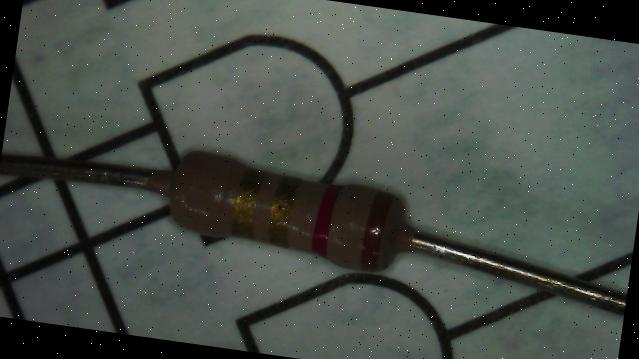brown: (357, 190, 392, 273)
gold: (228, 167, 263, 238), (264, 175, 298, 246)
red: (310, 185, 340, 258)
resistor: (145, 127, 426, 297)
